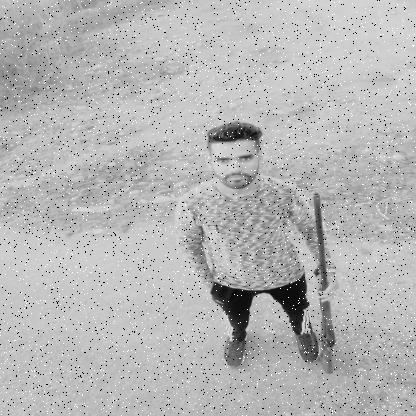rifle: (311, 191, 338, 375)
